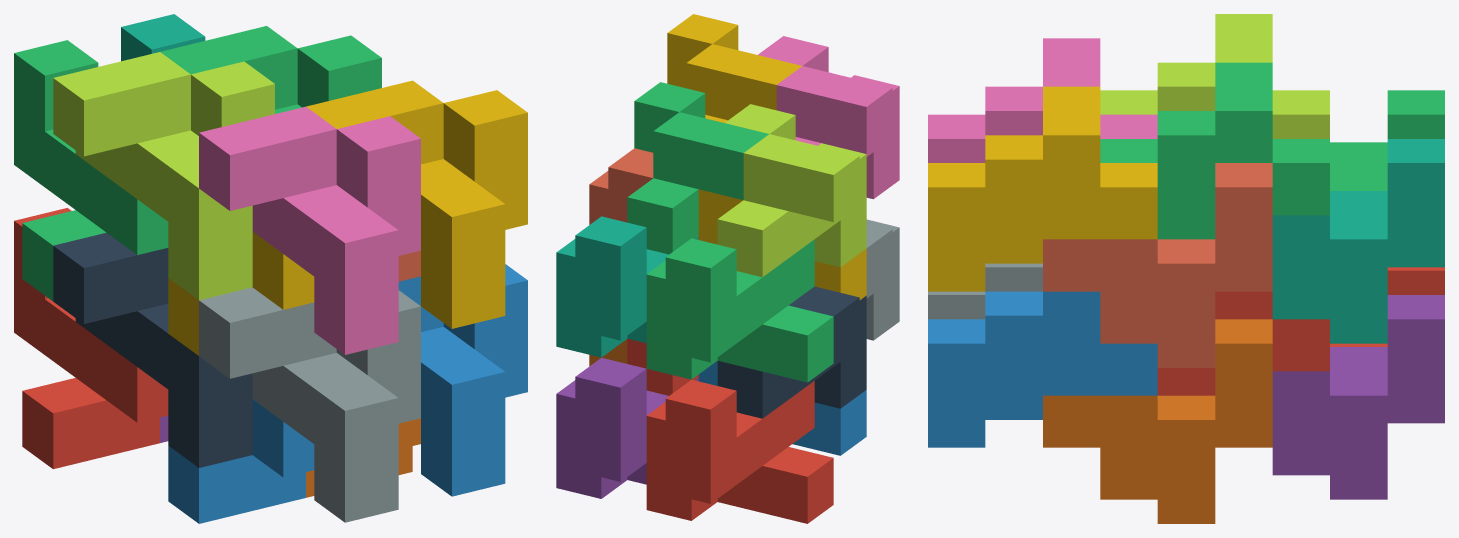
The model's file is tiling.obj.
3 renders of one model, left to right at view 1: azimuth 30°, elevation 25°; view 2: azimuth 150°, elevation 25°; view 3: azimuth 270°, elevation 25°, orthographic. The views are drawn at different scales.
Parts seen in each view (by area): view 1: copy_2_domain_4, copy_2_domain_3, copy_2_domain_2, copy_2_domain_8, copy_2_domain_1, copy_2_domain_6, copy_1_domain_1, copy_1_domain_3, copy_2_domain_7, copy_1_domain_2, copy_1_domain_4, copy_1_domain_7 (+2 smaller); view 2: copy_1_domain_3, copy_1_domain_1, copy_2_domain_3, copy_2_domain_7, copy_1_domain_5, copy_1_domain_7, copy_2_domain_4, copy_2_domain_8, copy_2_domain_1, copy_2_domain_2, copy_1_domain_2, copy_1_domain_4 (+3 smaller); view 3: copy_2_domain_8, copy_1_domain_6, copy_1_domain_8, copy_2_domain_6, copy_1_domain_5, copy_1_domain_7, copy_2_domain_7, copy_2_domain_4, copy_2_domain_3, copy_2_domain_5, copy_1_domain_3, copy_2_domain_2 (+1 smaller).
Part boxes in pixels (left/top/right/bottom): copy_2_domain_4: left=199, top=106, right=420, bottom=354; copy_2_domain_3: left=53, top=52, right=274, bottom=300; copy_2_domain_2: left=199, top=287, right=420, bottom=522; copy_2_domain_8: left=306, top=80, right=527, bottom=328; copy_2_domain_1: left=53, top=232, right=252, bottom=467; copy_2_domain_6: left=398, top=264, right=527, bottom=496; copy_1_domain_1: left=14, top=208, right=168, bottom=469; copy_1_domain_3: left=14, top=40, right=168, bottom=301; copy_2_domain_7: left=160, top=26, right=381, bottom=113; copy_1_domain_2: left=168, top=399, right=314, bottom=523; copy_1_domain_4: left=168, top=232, right=314, bottom=355; copy_1_domain_7: left=121, top=14, right=205, bottom=61; copy_1_domain_3: left=646, top=238, right=833, bottom=382; copy_1_domain_1: left=646, top=379, right=833, bottom=523; copy_2_domain_3: left=717, top=104, right=866, bottom=277; copy_2_domain_7: left=627, top=82, right=768, bottom=254; copy_1_domain_5: left=556, top=357, right=698, bottom=498; copy_1_domain_7: left=556, top=216, right=698, bottom=357; copy_2_domain_4: left=758, top=36, right=899, bottom=199; copy_2_domain_8: left=667, top=14, right=801, bottom=122; copy_2_domain_1: left=717, top=286, right=866, bottom=418; copy_2_domain_2: left=866, top=219, right=899, bottom=340; copy_1_domain_2: left=698, top=361, right=866, bottom=455; copy_1_domain_4: left=698, top=189, right=866, bottom=299; copy_2_domain_8: left=928, top=86, right=1157, bottom=291; copy_1_domain_6: left=1043, top=319, right=1272, bottom=523; copy_1_domain_8: left=1043, top=163, right=1272, bottom=367; copy_2_domain_6: left=928, top=291, right=1157, bottom=447; copy_1_domain_5: left=1272, top=295, right=1444, bottom=499; copy_1_domain_7: left=1272, top=139, right=1444, bottom=343; copy_2_domain_7: left=1100, top=62, right=1329, bottom=239; copy_2_domain_4: left=928, top=38, right=1157, bottom=162; copy_2_domain_3: left=1100, top=14, right=1329, bottom=138; copy_2_domain_5: left=1157, top=291, right=1329, bottom=395; copy_1_domain_3: left=1330, top=90, right=1444, bottom=190; copy_2_domain_2: left=928, top=263, right=1042, bottom=319.
Size of the model in its own units: 6 by 7 by 9.
